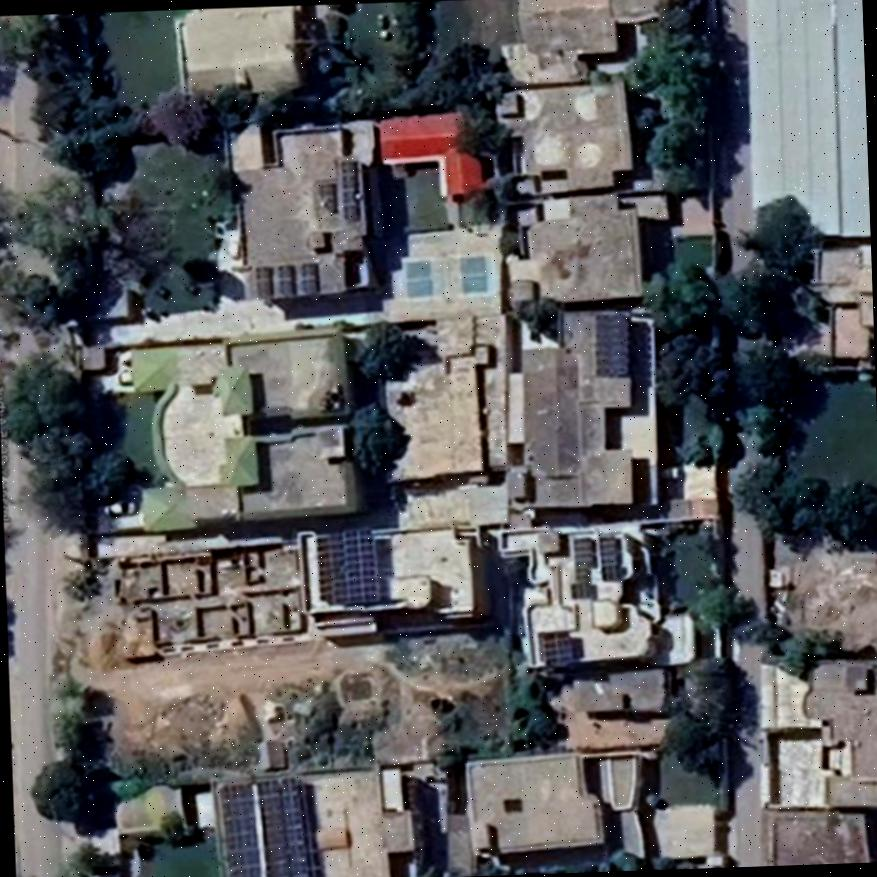Solarpanel: (220, 777, 314, 877), (317, 527, 379, 600), (539, 630, 574, 664), (251, 265, 271, 299), (300, 265, 321, 295), (279, 265, 298, 295)
